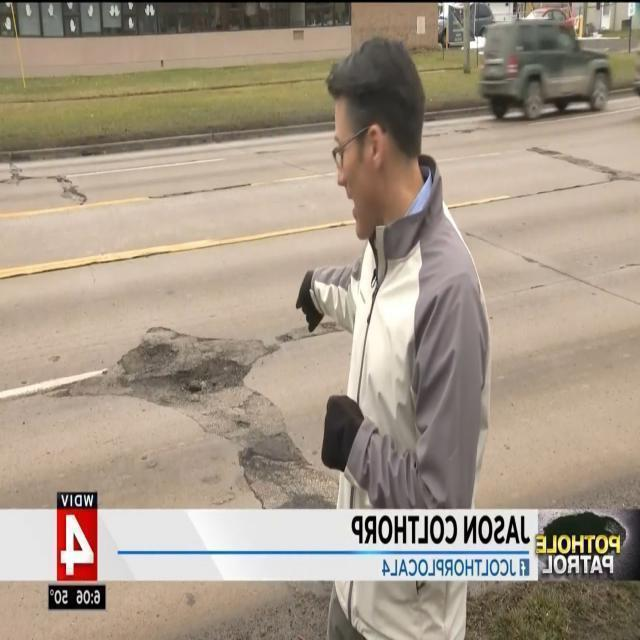-: (64, 324, 306, 505)
